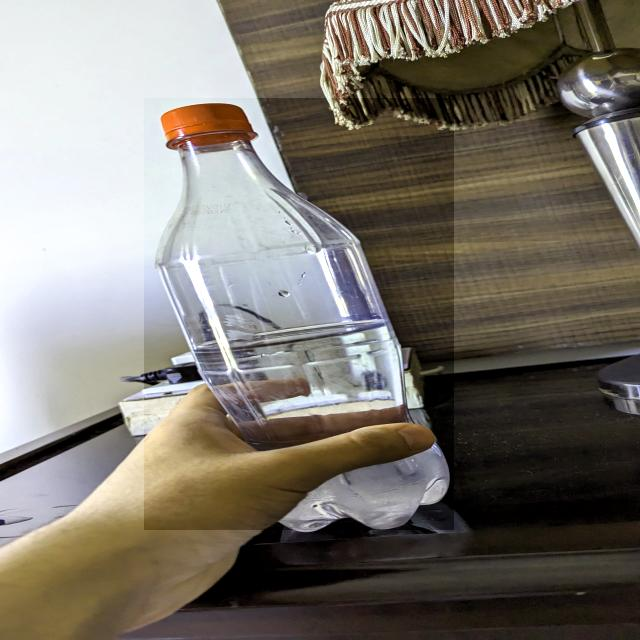half-bottle: (144, 98, 454, 530)
